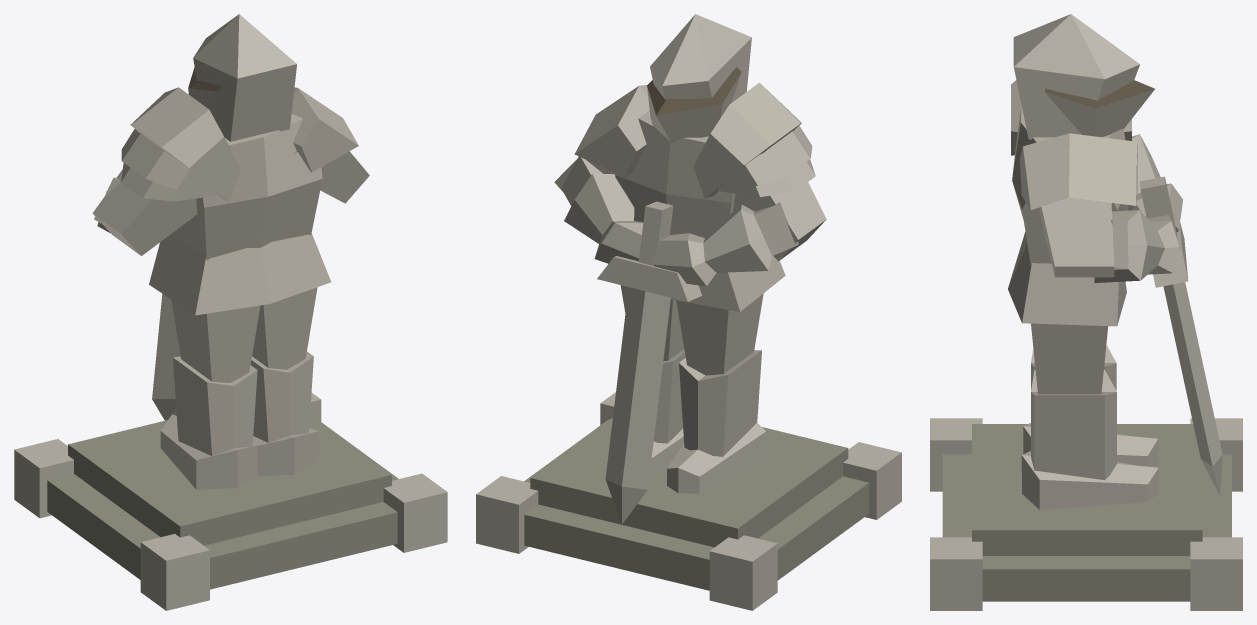
The model's file is statue_knight.fbx.
3 views of the same model, side by side, from view 1: azimuth 30°, elevation 25°; view 2: azimuth 150°, elevation 25°; view 3: azimuth 270°, elevation 25° (orthographic). The views are drawn at different scales.
Visible parts, largest first — view 1: armystuff:footsoldier:armystuff:footsoldier:polySurface1067; view 2: armystuff:footsoldier:armystuff:footsoldier:polySurface1067; view 3: armystuff:footsoldier:armystuff:footsoldier:polySurface1067.
Boxes of the visible parts, bbox=[...] form: armystuff:footsoldier:armystuff:footsoldier:polySurface1067: bbox=[14, 14, 447, 610]; armystuff:footsoldier:armystuff:footsoldier:polySurface1067: bbox=[476, 14, 901, 610]; armystuff:footsoldier:armystuff:footsoldier:polySurface1067: bbox=[930, 14, 1242, 610].
Size of the model in its own units: 81.31 by 141 by 76.06.
Materials: 1 (1 with a texture image).
